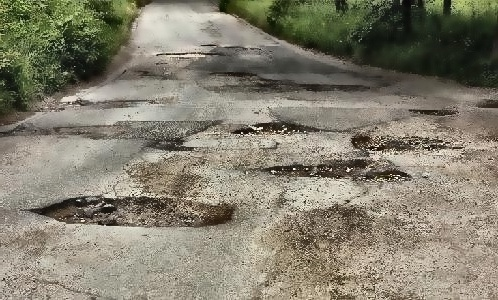pothole: (30, 193, 238, 229), (262, 157, 412, 184), (352, 134, 449, 154), (233, 121, 321, 135), (148, 137, 196, 154), (410, 106, 460, 116), (156, 51, 224, 57), (209, 70, 259, 78), (476, 99, 498, 108)
